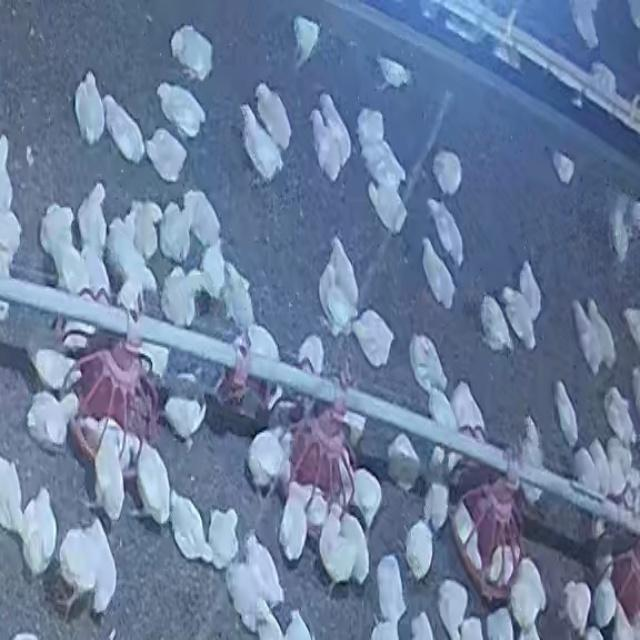chicken: (57, 515, 119, 621), (105, 211, 159, 311), (52, 285, 117, 361), (355, 105, 406, 193), (240, 323, 285, 413), (24, 388, 78, 457), (86, 429, 125, 522), (239, 103, 283, 185), (162, 374, 208, 449), (20, 489, 59, 576), (214, 329, 254, 412), (134, 442, 173, 526), (46, 235, 96, 300), (102, 93, 147, 165), (168, 494, 214, 564), (507, 559, 549, 635), (331, 501, 368, 585), (249, 428, 293, 492), (420, 238, 458, 312), (350, 308, 396, 369), (39, 202, 78, 272), (426, 199, 464, 270), (244, 531, 283, 600), (76, 180, 110, 259), (160, 266, 200, 331), (157, 81, 202, 138), (408, 334, 448, 398), (222, 260, 257, 333), (499, 284, 537, 351), (158, 195, 195, 263), (570, 300, 604, 374), (144, 128, 188, 185), (183, 188, 222, 252), (256, 82, 292, 150), (327, 235, 358, 313), (82, 414, 130, 464), (368, 178, 408, 238), (74, 70, 105, 146), (450, 381, 488, 443), (170, 25, 212, 80), (225, 567, 260, 633), (206, 506, 242, 570), (79, 243, 116, 305), (310, 109, 342, 180), (385, 432, 423, 491), (320, 266, 352, 336), (0, 453, 26, 538), (130, 198, 164, 263), (31, 346, 78, 393), (375, 556, 407, 625), (320, 94, 351, 164), (351, 467, 384, 532), (279, 480, 305, 562), (478, 294, 514, 353), (435, 578, 470, 637), (602, 386, 634, 448), (200, 239, 232, 301), (454, 503, 482, 573), (586, 300, 614, 369), (404, 521, 435, 583), (319, 516, 346, 587), (561, 578, 595, 633), (604, 438, 634, 499), (553, 378, 579, 448), (518, 259, 543, 325), (568, 0, 602, 48), (570, 445, 600, 499), (591, 574, 618, 632), (0, 207, 23, 274), (426, 386, 458, 434), (422, 481, 450, 533), (608, 197, 630, 263), (432, 148, 462, 196), (488, 542, 521, 584), (137, 339, 171, 379), (340, 408, 368, 456), (376, 55, 413, 91), (292, 17, 318, 68), (297, 333, 325, 376), (522, 413, 542, 472), (254, 601, 281, 640), (484, 607, 514, 640), (551, 149, 576, 184), (284, 608, 310, 640), (306, 484, 326, 524), (338, 452, 352, 504), (411, 611, 433, 640)
